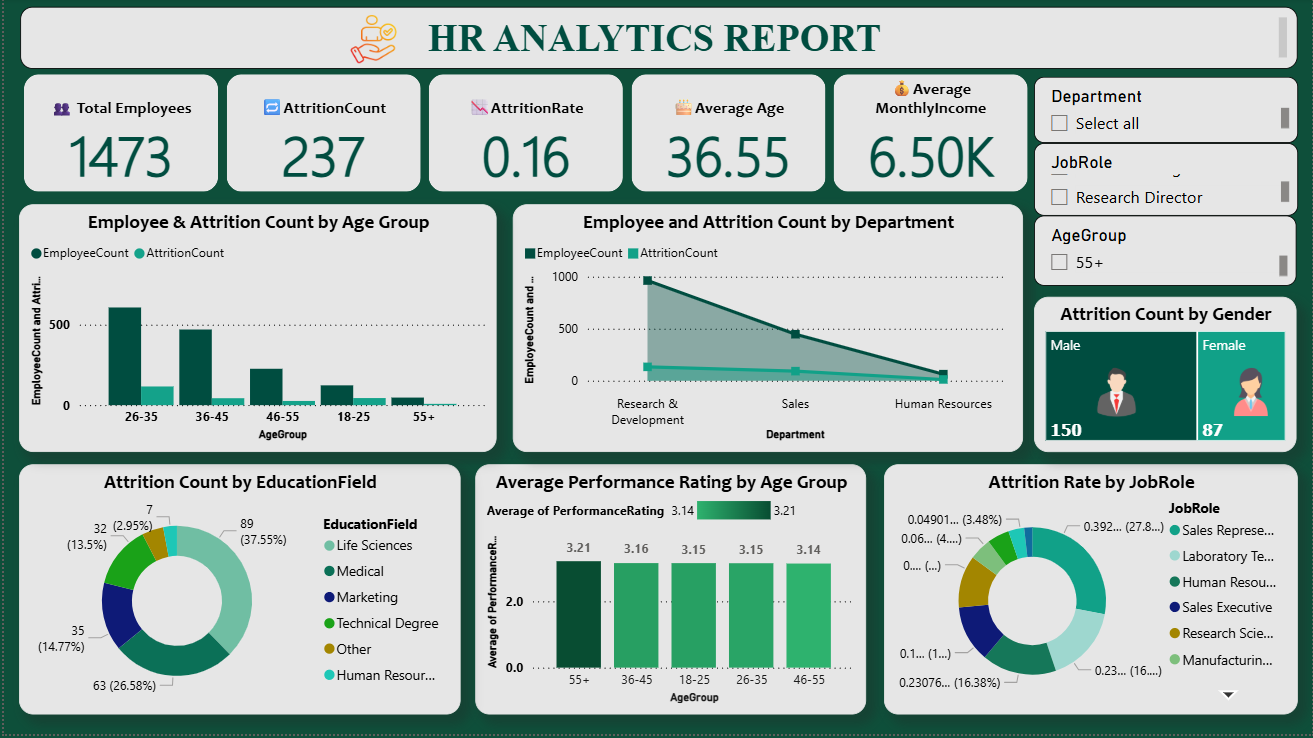

The page's visual inventory and layout, read from the dashboard file:
{"tool":"powerbi","page":{"name":"Page 1","canvas":[1280,720],"ordinal":0},"visuals":[{"type":"cardVisual","fields":{"Data":["Sum(Sheet1.EmployeeCount)","Sheet1.AttritionCount","Sheet1.AttritionRate","Avg(Sheet1.Age.1)","Avg(Sheet1.MonthlyIncome)"]},"box":[14.7,69.7,992.9,126],"z":0},{"type":"clusteredColumnChart","title":"Average Performance Rating by Age Group","fields":{"Y":["Avg(Sheet1.PerformanceRating)"],"Category":["Sheet1.AgeGroup"]},"box":[461,456.1,382.7,244.6],"z":1000},{"type":"donutChart","title":"Attrition Count by EducationField","fields":{"Category":["Sheet1.EducationField"],"Y":["Sheet1.AttritionCount"]},"box":[14.7,456.1,431.7,244.6],"z":2000},{"type":"areaChart","title":"Employee and Attrition Count by Department","fields":{"Category":["Sheet1.Department"],"Y":["CountNonNull(Sheet1.EmpID)","Sheet1.AttritionCount"]},"box":[497.7,201.8,498.9,242.1],"z":3000},{"type":"clusteredColumnChart","title":"Employee & Attrition Count by Age Group","fields":{"Category":["Sheet1.AgeGroup"],"Y":["CountNonNull(Sheet1.EmpID)","Sheet1.AttritionCount"]},"box":[14.7,201.8,467.1,242.1],"z":4000},{"type":"donutChart","title":"Attrition Rate by JobRole","fields":{"Category":["Sheet1.JobRole"],"Y":["Sheet1.AttritionRate"]},"box":[860.9,456.1,404.8,244.6],"z":5000},{"type":"treemap","title":"Attrition Count by Gender","fields":{"Group":["Sheet1.Gender"],"Values":["Sheet1.AttritionCount"]},"box":[1007.6,292.3,256.8,151.6],"z":6000},{"type":"image","box":[1049.2,344.8,78.3,81.9],"z":7000},{"type":"image","box":[1189.8,354.6,59.9,61.1],"z":8000},{"type":"textbox","box":[15.9,8.6,1249.7,61.1],"z":9000},{"type":"slicer","fields":{"Values":["Sheet1.AgeGroup"]},"box":[1007.6,212.8,256.8,68.5],"z":10000},{"type":"slicer","fields":{"Values":["Sheet1.JobRole"]},"box":[1007.6,141.8,258,70.9],"z":11000},{"type":"slicer","fields":{"Values":["Sheet1.Department"]},"box":[1007.6,77,258,64.8],"z":12000},{"type":"image","box":[211.6,11,299.6,58.7],"z":13000}]}

Visuals, with their boxes in screenshot pixels (x1, y1, x2, y2), scaled from the page's 1280x720 canvas onto the 1313x738 screenshot:
cardVisual - Sum(Sheet1.EmployeeCount) x Sheet1.AttritionCount: bbox(15, 71, 1034, 201)
"Average Performance Rating by Age Group" clusteredColumnChart: bbox(473, 468, 865, 718)
"Attrition Count by EducationField" donutChart: bbox(15, 468, 458, 718)
"Employee and Attrition Count by Department" areaChart: bbox(511, 207, 1022, 455)
"Employee & Attrition Count by Age Group" clusteredColumnChart: bbox(15, 207, 494, 455)
"Attrition Rate by JobRole" donutChart: bbox(883, 468, 1298, 718)
"Attrition Count by Gender" treemap: bbox(1034, 300, 1297, 455)
image: bbox(1076, 353, 1157, 437)
image: bbox(1220, 363, 1282, 426)
textbox: bbox(16, 9, 1298, 71)
slicer - Sheet1.AgeGroup: bbox(1034, 218, 1297, 288)
slicer - Sheet1.JobRole: bbox(1034, 145, 1298, 218)
slicer - Sheet1.Department: bbox(1034, 79, 1298, 145)
image: bbox(217, 11, 524, 71)
